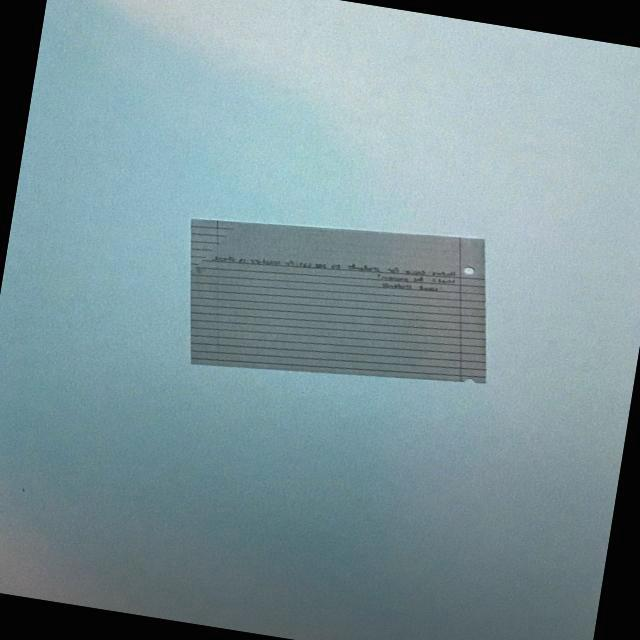paper: (156, 184, 528, 413)
